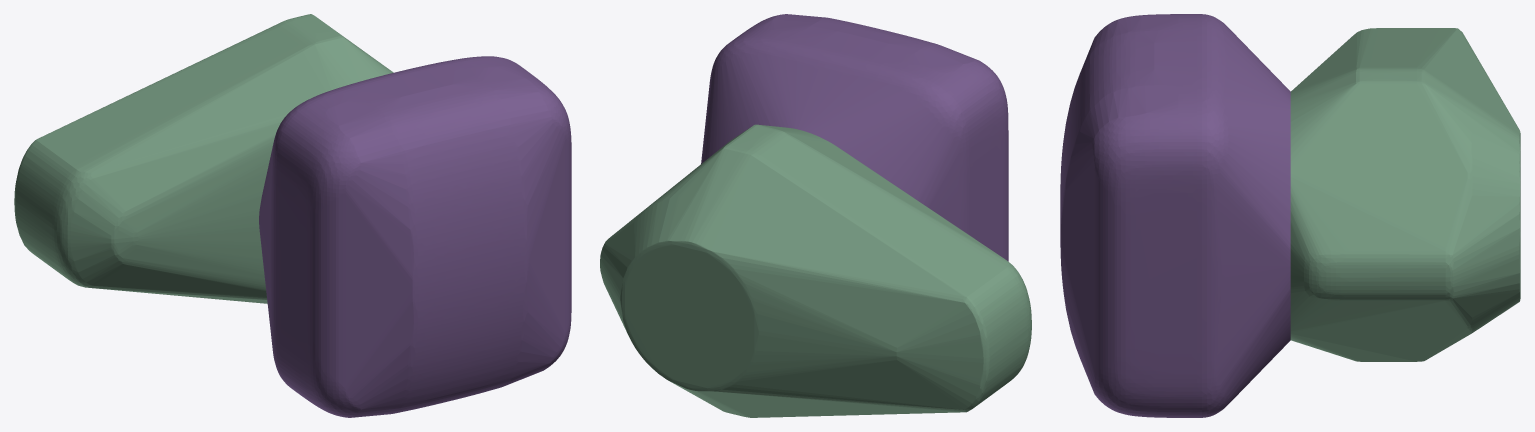
Rendered from gripper_base.obj.
3 views of the same model, side by side, from view 1: azimuth 30°, elevation 25°; view 2: azimuth 150°, elevation 25°; view 3: azimuth 270°, elevation 25° (orthographic). The views are drawn at different scales.
Visible parts, largest first — view 1: geometry_1, geometry_0; view 2: geometry_0, geometry_1; view 3: geometry_1, geometry_0.
Boxes of the visible parts, x1=… form: geometry_1: x1=259, y1=56, x2=571, y2=417; geometry_0: x1=14, y1=14, x2=393, y2=303; geometry_0: x1=600, y1=124, x2=1031, y2=417; geometry_1: x1=701, y1=14, x2=1008, y2=261; geometry_1: x1=1060, y1=14, x2=1290, y2=417; geometry_0: x1=1290, y1=28, x2=1520, y2=361.
Size of the model in its own units: 0.1432 by 0.1048 by 0.1366.
